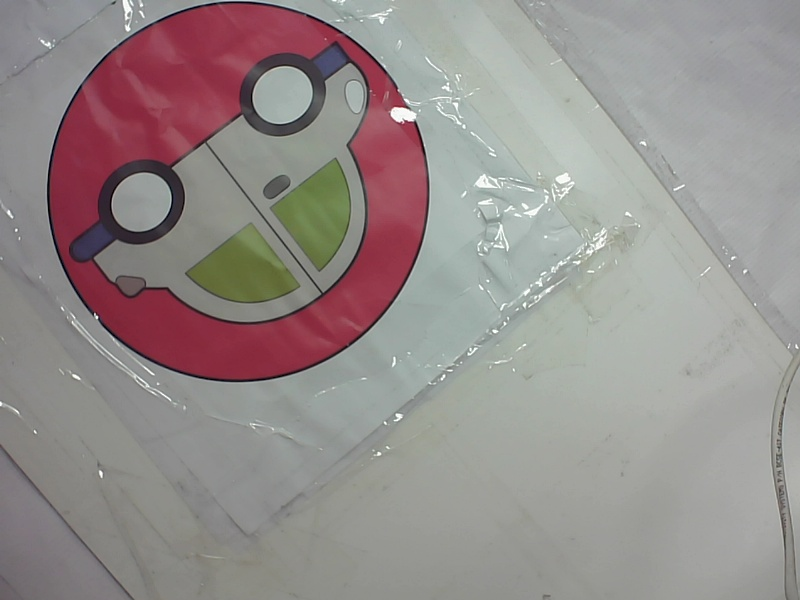areaC: (37, 4, 436, 392)
